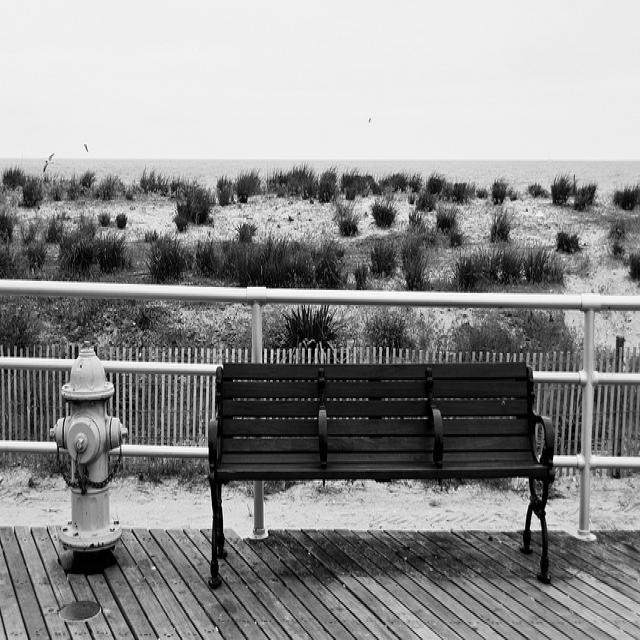fire_hydrant: (49, 340, 128, 554)
